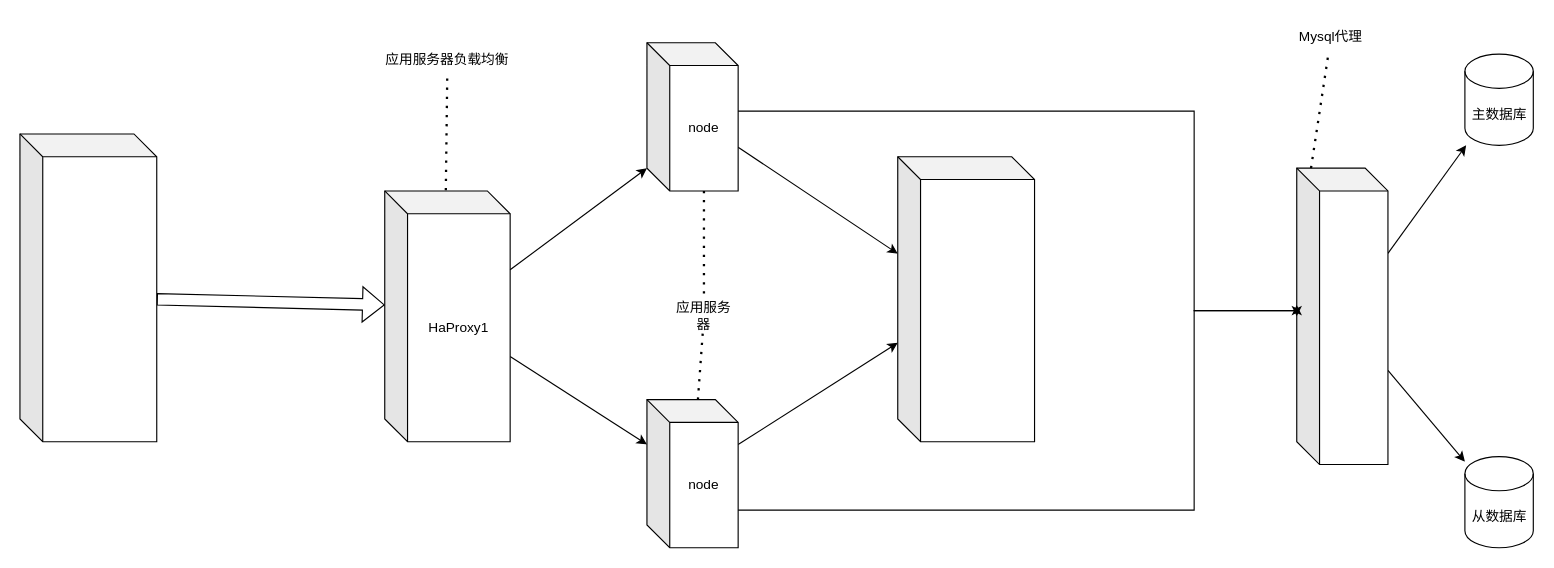
Some shapes in this 1554 by 568 pixel diagram are drawn without their labels. The centre of each missing label's shape, as x and y in pixels:
HaProxy2: (1342,316)
Redis队列缓存服务器: (966,299)
学校反向代理: (88,287)
